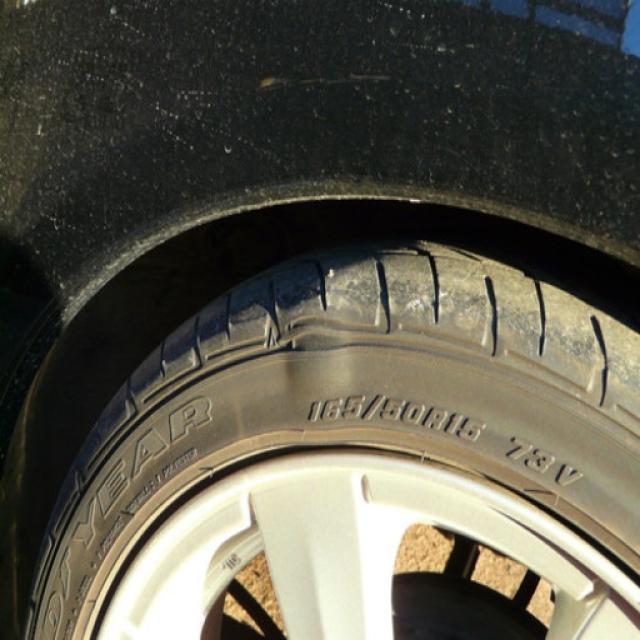Bulge: (282, 307, 356, 405)
